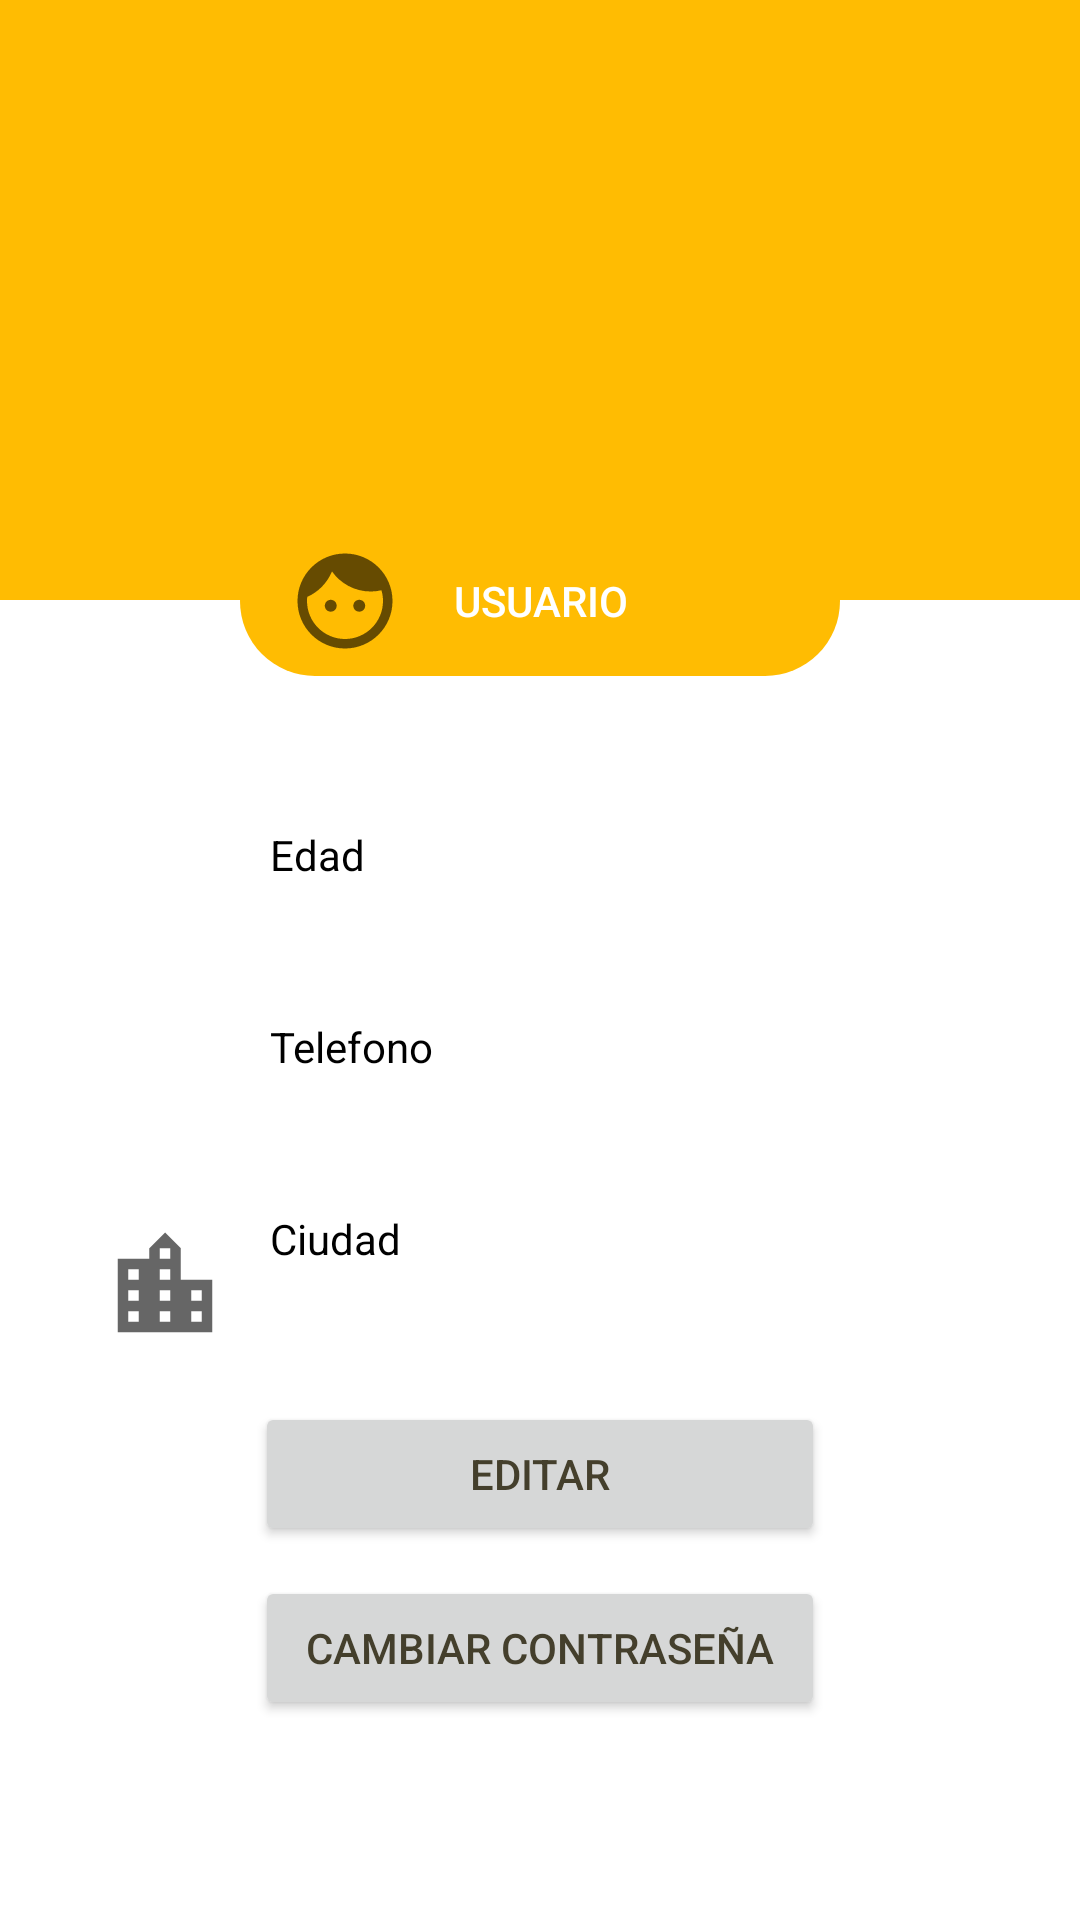

Icon click points for this 1080x1920 phone screenshot, format (x,y):
face 24b: (345,601)
location city: (165,1282)
